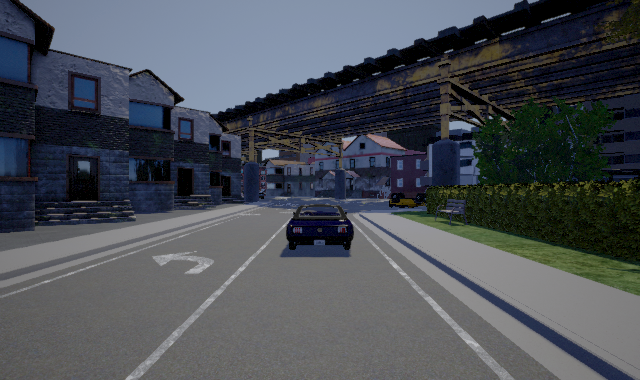vehicle: (286, 204, 354, 250), (389, 192, 426, 208)
